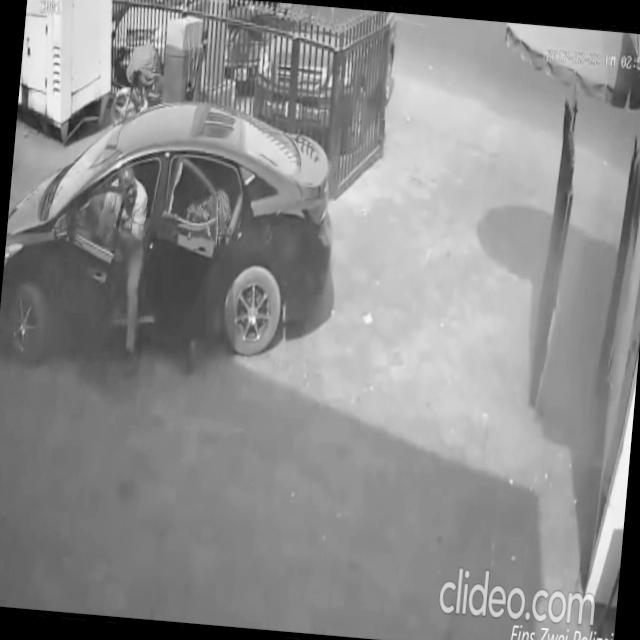gun: (204, 212, 242, 256)
person: (88, 160, 158, 378)
person with a gun: (168, 168, 236, 383)
